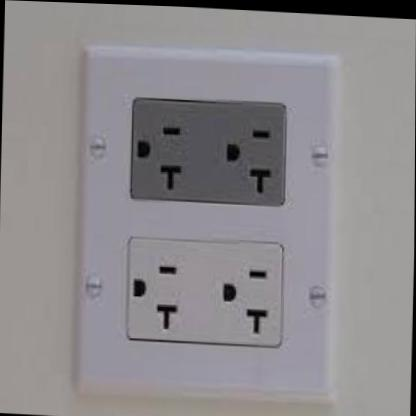OUTLET: (74, 43, 341, 400)
